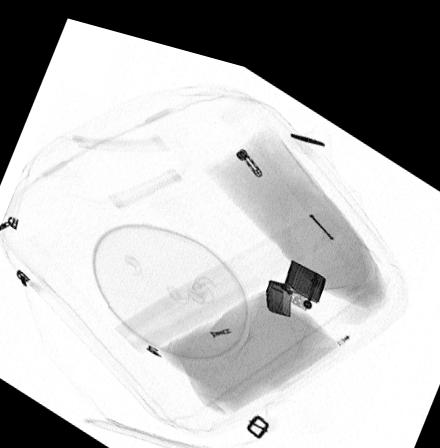Lighter: (266, 242, 327, 301)
